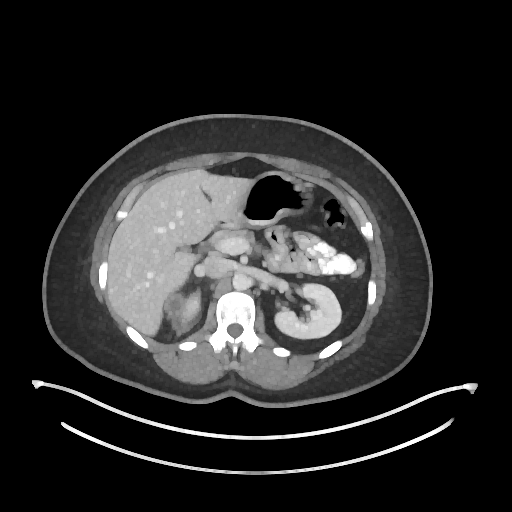Lesion: (165, 293, 184, 315)
